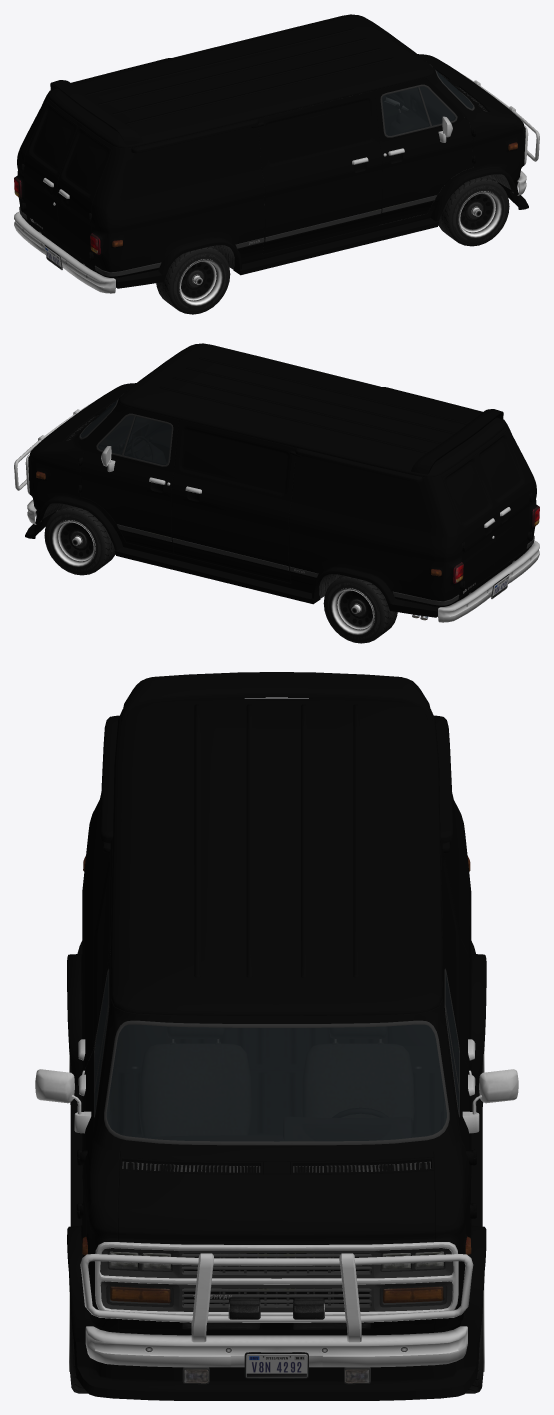
3 views of the same model, one above another, from view 1: azimuth 30°, elevation 25°; view 2: azimuth 150°, elevation 25°; view 3: azimuth 270°, elevation 25° (orthographic). The views are drawn at different scales.
Parts seen in each view (by area): view 1: Shvan92_Body_Shvan92_bodymat_0, Shvan92_Infvan_Stuff_Shvan92_bodymat_0, Shvan92_WheelCustom_FR_RB1c_Tire_1k_0, Shvan92_WheelCustom_RR_RB1c_Tire_1k_0, Shvan92_Bottom_UCB_BOTTOM_0, Shvan92_Interior_UCB_Interiors_1_0, Shvan92_Bumper_rear_UCB_BOTTOM_0, Shvan92_Glass_Passanger_UCB_Lights_and_Glass_Transperent_0, Shvan92_Hood_Shvan92_bodymat_0, Shvan92_Body_glass_UCB_Lights_and_Glass_Transperent_0, Shvan92_Bullbar_B_UCB_BOTTOM_0; view 2: Shvan92_Body_Shvan92_bodymat_0, Shvan92_Infvan_Stuff_Shvan92_bodymat_0, Shvan92_WheelCustom_FL_RB1c_Tire_1k_0, Shvan92_WheelCustom_RL_RB1c_Tire_1k_0, Shvan92_Bottom_UCB_BOTTOM_0, Shvan92_Interior_UCB_Interiors_1_0, Shvan92_Bumper_rear_UCB_BOTTOM_0, Shvan92_Glass_Driver_UCB_Lights_and_Glass_Transperent_0, Shvan92_Hood_Shvan92_bodymat_0, Shvan92_Body_glass_UCB_Lights_and_Glass_Transperent_0, Shvan92_Bullbar_B_UCB_BOTTOM_0; view 3: Shvan92_Body_Shvan92_bodymat_0, Shvan92_Interior_UCB_Interiors_1_0, Shvan92_Windshield_UCB_Lights_and_Glass_Transperent_0, Shvan92_Bottom_UCB_BOTTOM_0, Shvan92_Infvan_Stuff_Shvan92_bodymat_0, Shvan92_Hood_Shvan92_bodymat_0, Shvan92_Bumper_front_UCB_BOTTOM_0, Shvan92_Bullbar_B_UCB_BOTTOM_0, Shvan92_Headlights_Glass_UCB_Lights_and_Glass_Transperent_0, Shvan92_Blinkers_UCB_Lights_and_Glass_0, Shvan92INF_Numberplate_front_Numberplates_Misk_U_0.
Part boxes in pixels (left/top/right/bottom): Shvan92_Body_Shvan92_bodymat_0: left=16, top=14, right=525, bottom=277; Shvan92_Infvan_Stuff_Shvan92_bodymat_0: left=22, top=80, right=528, bottom=288; Shvan92_WheelCustom_FR_RB1c_Tire_1k_0: left=438, top=175, right=509, bottom=246; Shvan92_WheelCustom_RR_RB1c_Tire_1k_0: left=156, top=246, right=230, bottom=314; Shvan92_Bottom_UCB_BOTTOM_0: left=19, top=64, right=528, bottom=276; Shvan92_Interior_UCB_Interiors_1_0: left=264, top=78, right=472, bottom=239; Shvan92_Bumper_rear_UCB_BOTTOM_0: left=14, top=211, right=115, bottom=293; Shvan92_Glass_Passanger_UCB_Lights_and_Glass_Transperent_0: left=382, top=87, right=430, bottom=135; Shvan92_Hood_Shvan92_bodymat_0: left=420, top=56, right=519, bottom=118; Shvan92_Body_glass_UCB_Lights_and_Glass_Transperent_0: left=419, top=86, right=455, bottom=125; Shvan92_Bullbar_B_UCB_BOTTOM_0: left=461, top=73, right=539, bottom=161; Shvan92_Body_Shvan92_bodymat_0: left=28, top=343, right=537, bottom=606; Shvan92_Infvan_Stuff_Shvan92_bodymat_0: left=25, top=409, right=531, bottom=617; Shvan92_WheelCustom_FL_RB1c_Tire_1k_0: left=44, top=504, right=115, bottom=575; Shvan92_WheelCustom_RL_RB1c_Tire_1k_0: left=323, top=575, right=397, bottom=643; Shvan92_Bottom_UCB_BOTTOM_0: left=25, top=393, right=534, bottom=620; Shvan92_Interior_UCB_Interiors_1_0: left=81, top=407, right=170, bottom=464; Shvan92_Bumper_rear_UCB_BOTTOM_0: left=438, top=540, right=539, bottom=622; Shvan92_Glass_Driver_UCB_Lights_and_Glass_Transperent_0: left=123, top=416, right=171, bottom=464; Shvan92_Hood_Shvan92_bodymat_0: left=34, top=385, right=133, bottom=447; Shvan92_Body_glass_UCB_Lights_and_Glass_Transperent_0: left=98, top=415, right=134, bottom=454; Shvan92_Bullbar_B_UCB_BOTTOM_0: left=14, top=402, right=92, bottom=490; Shvan92_Body_Shvan92_bodymat_0: left=76, top=698, right=476, bottom=1335; Shvan92_Interior_UCB_Interiors_1_0: left=89, top=950, right=458, bottom=1140; Shvan92_Windshield_UCB_Lights_and_Glass_Transperent_0: left=106, top=1024, right=446, bottom=1141; Shvan92_Bottom_UCB_BOTTOM_0: left=35, top=856, right=518, bottom=1384; Shvan92_Infvan_Stuff_Shvan92_bodymat_0: left=67, top=672, right=486, bottom=1400; Shvan92_Hood_Shvan92_bodymat_0: left=118, top=1170, right=435, bottom=1244; Shvan92_Bumper_front_UCB_BOTTOM_0: left=85, top=1326, right=467, bottom=1378; Shvan92_Bullbar_B_UCB_BOTTOM_0: left=80, top=1253, right=473, bottom=1342; Shvan92_Headlights_Glass_UCB_Lights_and_Glass_Transperent_0: left=109, top=1251, right=443, bottom=1303; Shvan92_Blinkers_UCB_Lights_and_Glass_0: left=111, top=1287, right=442, bottom=1302; Shvan92INF_Numberplate_front_Numberplates_Misk_U_0: left=246, top=1354, right=307, bottom=1377.
Bounding box in the file's own units: 5.01 × 2.02 × 2.35.
8 materials, 7 textured.
